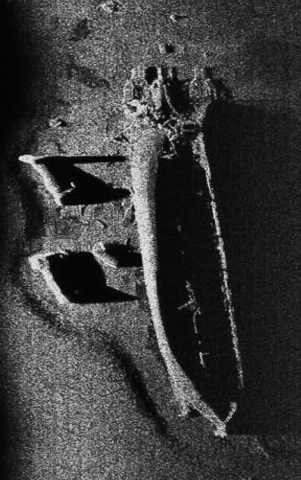ship: (117, 62, 251, 443)
